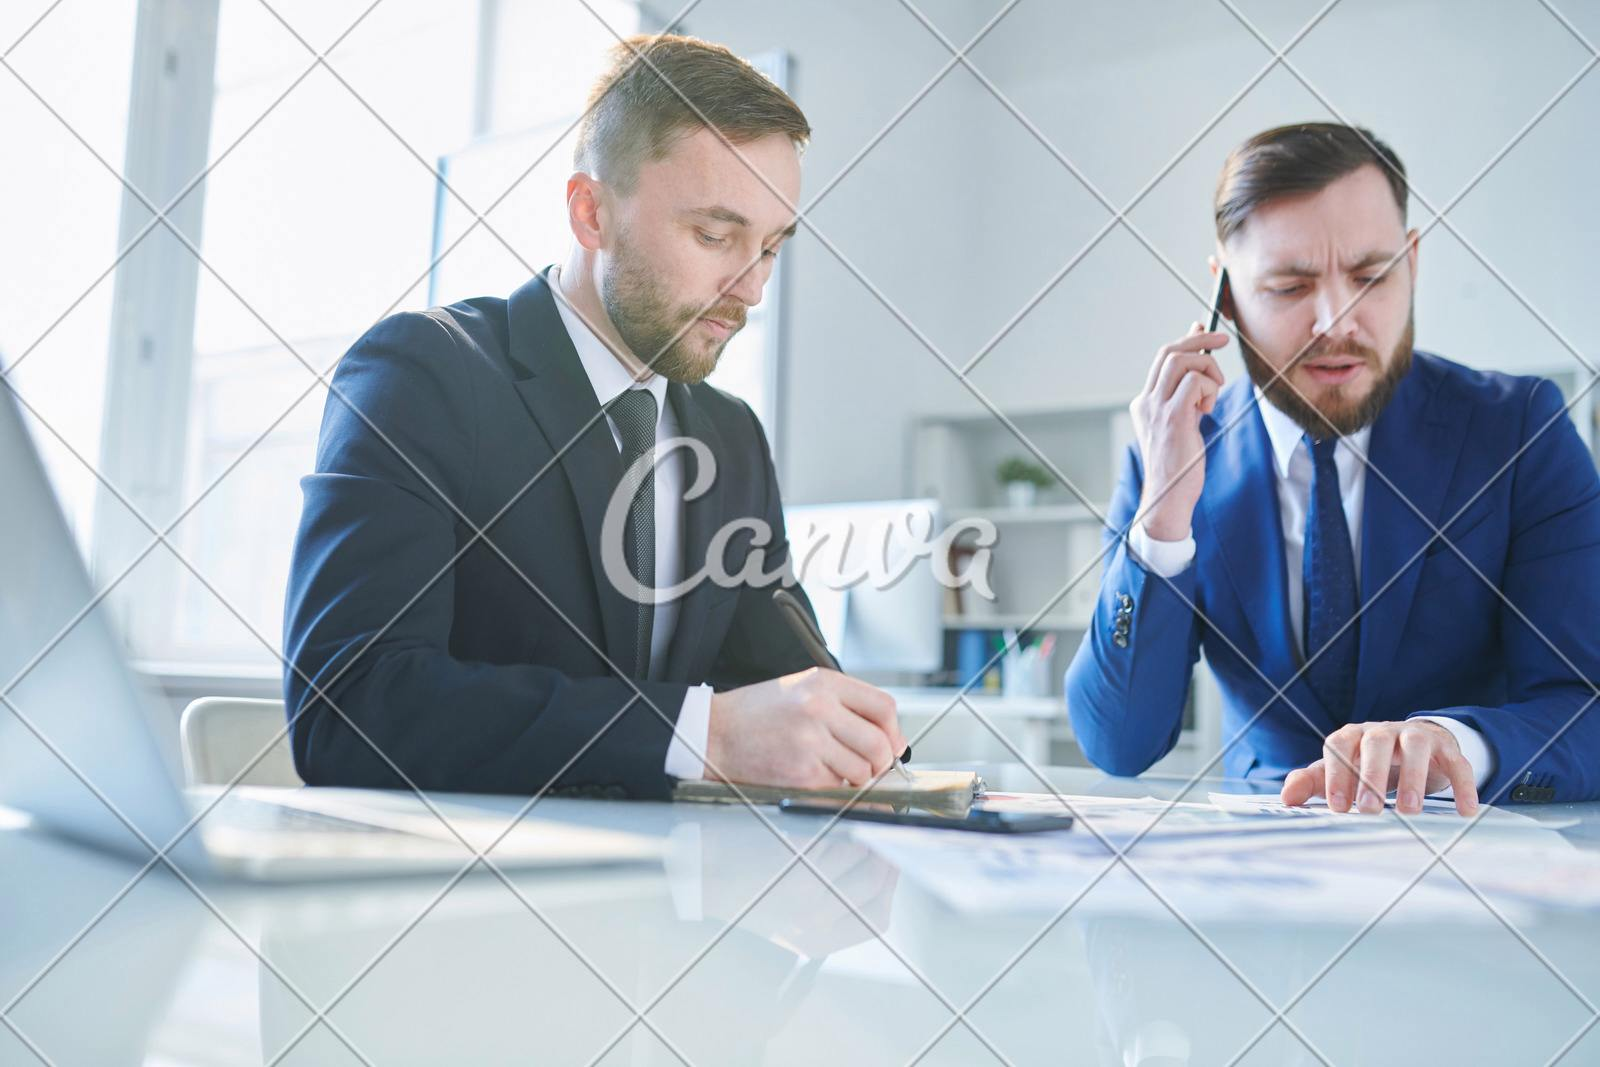calling: (1125, 258, 1235, 503)
no-phone: (707, 589, 913, 790)
